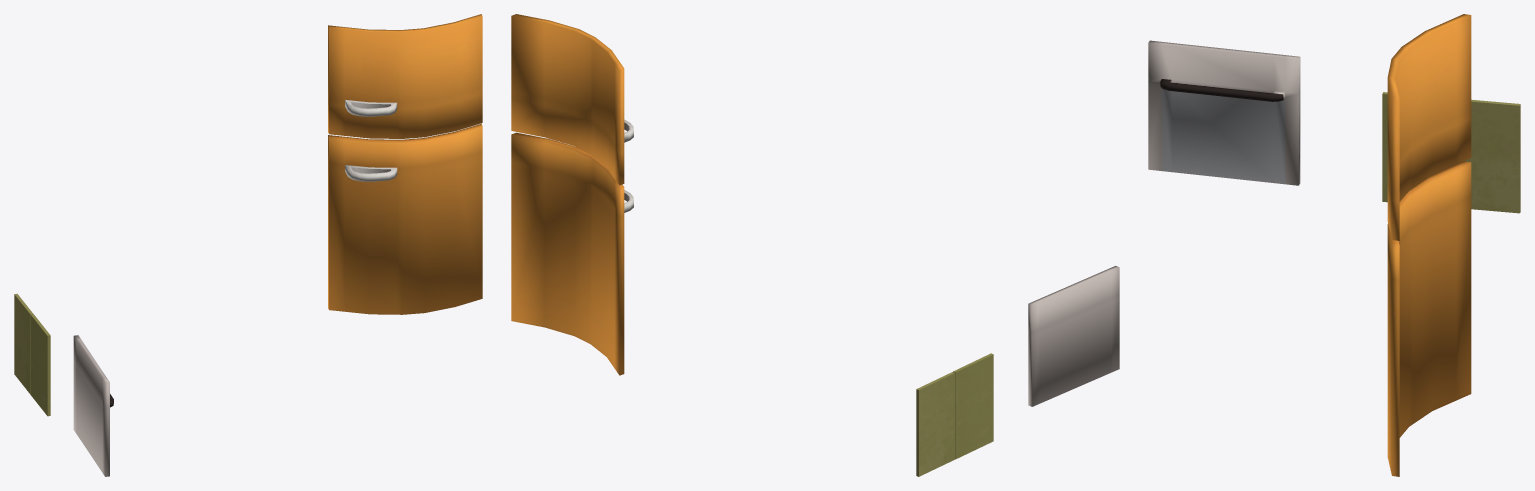
Rendered from mesh_60_kitchen_bits_2.glb.
3 views of the same model, side by side, from view 1: azimuth 30°, elevation 25°; view 2: azimuth 150°, elevation 25°; view 3: azimuth 270°, elevation 25° (orthographic). The views are drawn at different scales.
Visible parts, largest first — view 1: mesh_60_Fridge_1_Door.002, mesh_60_Fridge_1_Drawer.002, mesh_60_Oven_1_Door.002, mesh_60_Sink_Cupboards_3.002, mesh_60_Sink_Cupboards_5.002; view 2: mesh_60_Fridge_1_Door.002, mesh_60_Fridge_1_Drawer.002, mesh_60_Oven_1_Door.002, mesh_60_Sink_Cupboards_5.002, mesh_60_Sink_Cupboards_3.002; view 3: mesh_60_Fridge_1_Door.002, mesh_60_Oven_1_Door.002, mesh_60_Fridge_1_Drawer.002, mesh_60_Sink_Cupboards_5.002, mesh_60_Sink_Cupboards_3.002.
Boxes of the visible parts, x1,y1,x2,y2 form: mesh_60_Fridge_1_Door.002: (328, 123, 482, 314); mesh_60_Fridge_1_Drawer.002: (328, 14, 482, 138); mesh_60_Oven_1_Door.002: (73, 335, 113, 476); mesh_60_Sink_Cupboards_3.002: (30, 314, 50, 416); mesh_60_Sink_Cupboards_5.002: (14, 293, 33, 394); mesh_60_Fridge_1_Door.002: (511, 132, 633, 375); mesh_60_Fridge_1_Drawer.002: (511, 14, 633, 185); mesh_60_Oven_1_Door.002: (1028, 266, 1119, 406); mesh_60_Sink_Cupboards_5.002: (916, 372, 955, 476); mesh_60_Sink_Cupboards_3.002: (953, 353, 993, 459); mesh_60_Fridge_1_Door.002: (1387, 161, 1471, 476); mesh_60_Oven_1_Door.002: (1148, 40, 1300, 185); mesh_60_Fridge_1_Drawer.002: (1387, 14, 1471, 240); mesh_60_Sink_Cupboards_5.002: (1464, 99, 1520, 213); mesh_60_Sink_Cupboards_3.002: (1382, 92, 1387, 202).
Size of the model in its own units: 3.64 by 2.15 by 1.86.
1 material, 1 textured.
